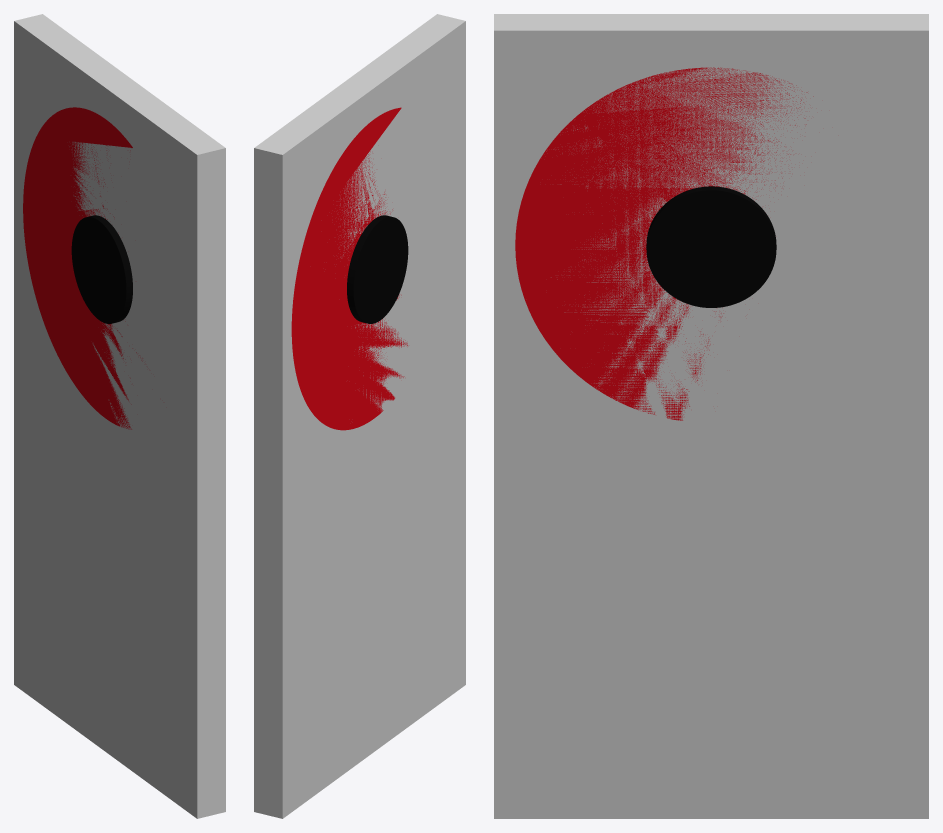
The model's file is Shooting Target Simple.fbx.
The picture shows the model from 3 angles, left to right: view 1: azimuth 30°, elevation 25°; view 2: azimuth 150°, elevation 25°; view 3: azimuth 270°, elevation 25°; orthographic projection. The views are drawn at different scales.
Parts seen in each view (by area): view 1: Cube.001, Cylinder.001, Cylinder.003; view 2: Cube.001, Cylinder.001, Cylinder.003; view 3: Cube.001, Cylinder.001, Cylinder.003.
Boxes of the visible parts, x1,y1,x2,y2 form: Cube.001: (14, 14, 225, 818); Cylinder.001: (23, 107, 142, 429); Cylinder.003: (71, 215, 132, 323); Cube.001: (254, 14, 465, 818); Cylinder.001: (291, 107, 407, 430); Cylinder.003: (347, 215, 408, 323); Cube.001: (494, 14, 928, 818); Cylinder.001: (515, 67, 813, 420); Cylinder.003: (646, 186, 776, 307).
Size of the model in its own units: 23.38 by 355 by 177.
